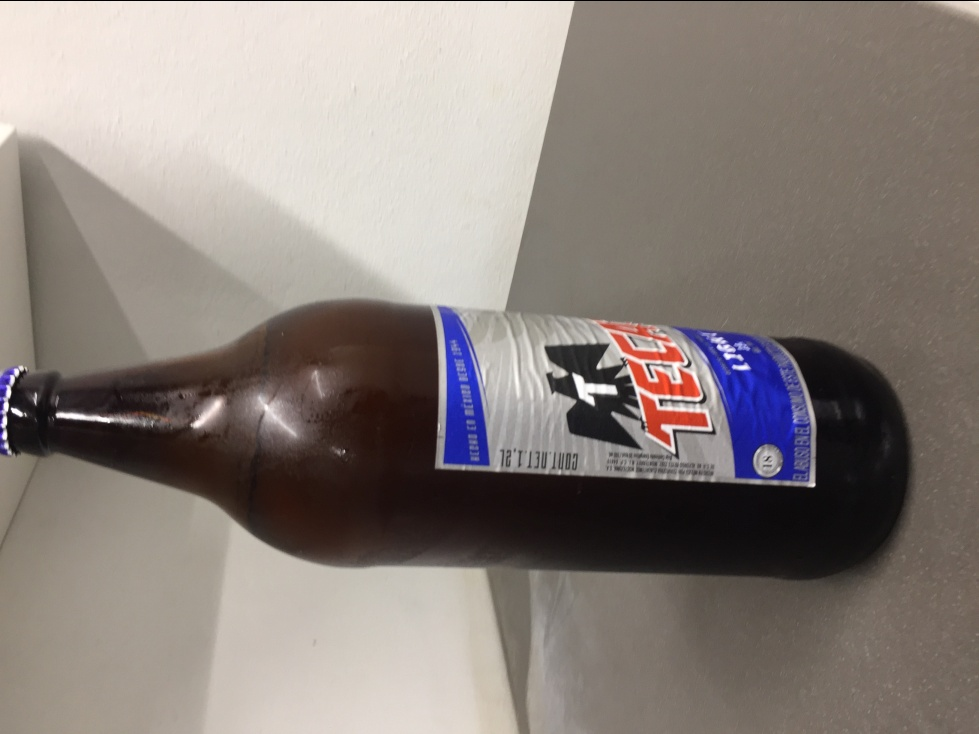tecateC: (1, 295, 909, 585)
